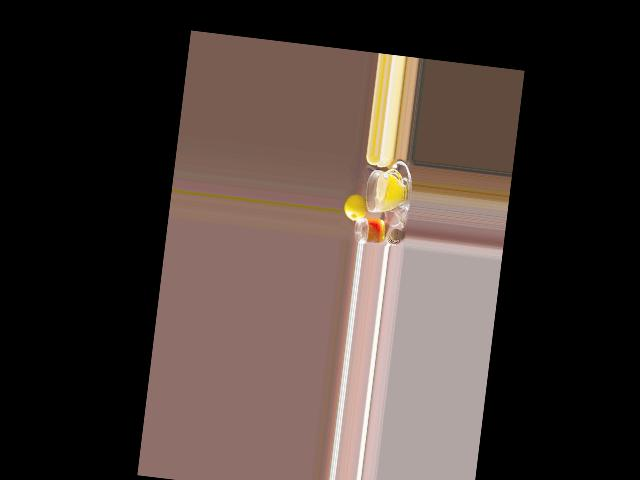lemon: (342, 189, 370, 223)
